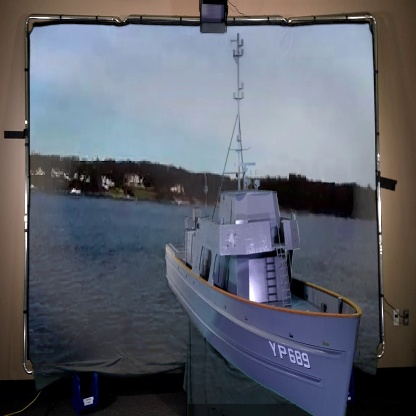YP689: (164, 32, 370, 416)
